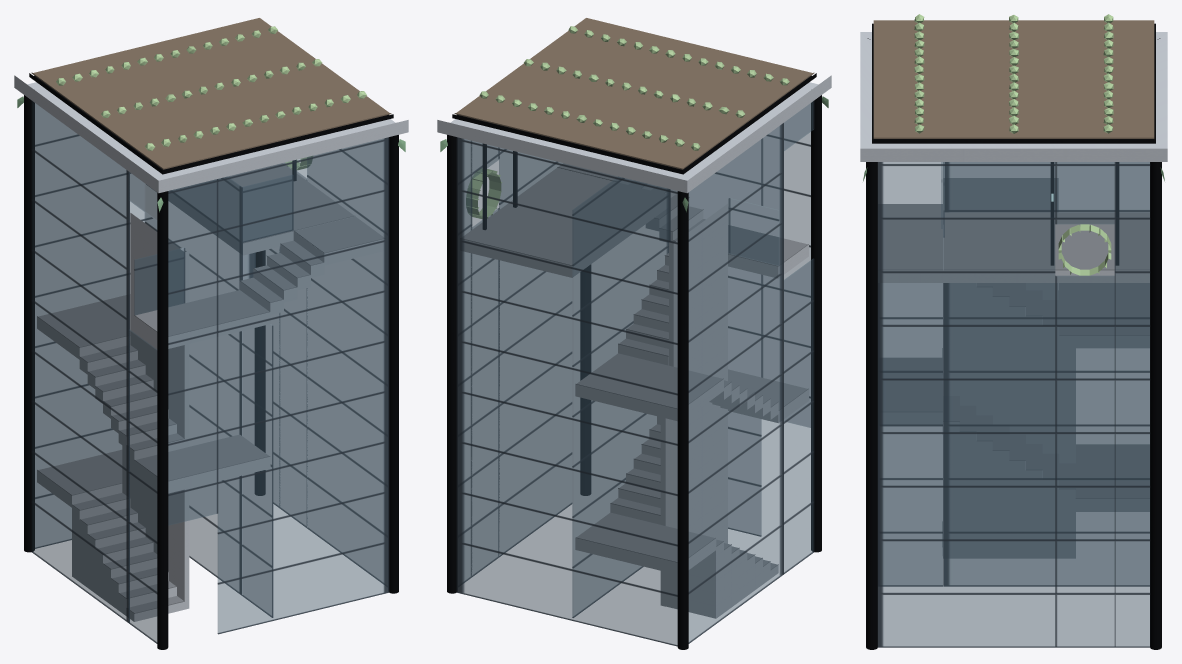
3 renders of one model, left to right at view 1: azimuth 30°, elevation 25°; view 2: azimuth 150°, elevation 25°; view 3: azimuth 270°, elevation 25°, orthographic. The views are drawn at different scales.
Parts seen in each view (by area): view 1: Enclosure_Glass, Planter_Soil, Treads_Slate, Columns, Stair_Cast, Spine_Wall, Deck_Finish, Roof, Roof_Foliage, Deck, Roof_Planter; view 2: Enclosure_Glass, Planter_Soil, Columns, Stair_Cast, Spine_Wall, Treads_Slate, Deck_Finish, Roof, Roof_Foliage, Deck, Roof_Planter, Slide_Tube (+1 smaller); view 3: Enclosure_Glass, Planter_Soil, Spine_Wall, Treads_Slate, Deck_Finish, Columns, Roof, Stair_Cast, Deck, Roof_Foliage, Roof_Planter, Gate_Posts (+1 smaller).
Part boxes in pixels (bbox=[...]): Enclosure_Glass: bbox=[31, 101, 389, 643]; Planter_Soil: bbox=[31, 18, 391, 169]; Treads_Slate: bbox=[37, 240, 323, 613]; Columns: bbox=[24, 95, 398, 649]; Stair_Cast: bbox=[37, 244, 324, 621]; Spine_Wall: bbox=[122, 213, 189, 609]; Deck_Finish: bbox=[172, 163, 384, 253]; Roof: bbox=[14, 75, 408, 193]; Roof_Foliage: bbox=[56, 26, 366, 150]; Deck: bbox=[168, 191, 384, 265]; Roof_Planter: bbox=[29, 73, 393, 174]; Enclosure_Glass: bbox=[456, 101, 814, 646]; Planter_Soil: bbox=[454, 18, 814, 169]; Columns: bbox=[447, 95, 821, 649]; Stair_Cast: bbox=[575, 184, 808, 618]; Spine_Wall: bbox=[660, 204, 727, 606]; Treads_Slate: bbox=[576, 181, 808, 569]; Deck_Finish: bbox=[463, 163, 666, 265]; Roof: bbox=[437, 75, 831, 193]; Roof_Foliage: bbox=[479, 26, 789, 150]; Deck: bbox=[463, 167, 666, 277]; Roof_Planter: bbox=[452, 73, 816, 174]; Slide_Tube: bbox=[466, 168, 501, 218]; Enclosure_Glass: bbox=[877, 162, 1150, 647]; Planter_Soil: bbox=[873, 20, 1154, 138]; Spine_Wall: bbox=[943, 178, 1075, 558]; Treads_Slate: bbox=[882, 204, 1149, 546]; Deck_Finish: bbox=[882, 212, 1149, 270]; Columns: bbox=[866, 38, 1161, 649]; Roof: bbox=[860, 32, 1167, 161]; Stair_Cast: bbox=[883, 283, 1149, 511]; Deck: bbox=[882, 225, 1149, 282]; Roof_Foliage: bbox=[914, 14, 1113, 133]; Roof_Planter: bbox=[872, 23, 1155, 143]; Gate_Posts: bbox=[1050, 162, 1119, 265].
Size of what is drawn, in the model's own units: 5.2 by 9.65 by 5.2.
9 materials, 4 textured.
